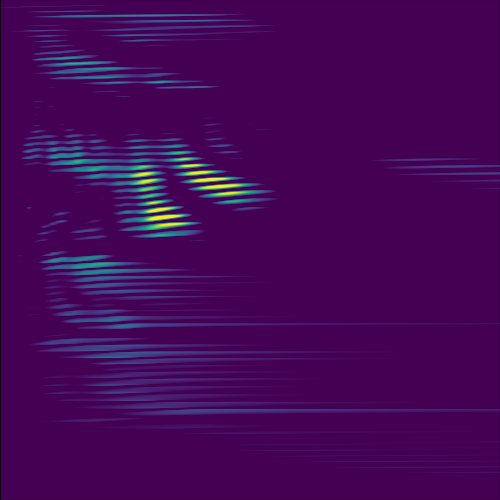semblance: (120, 156, 196, 238)
